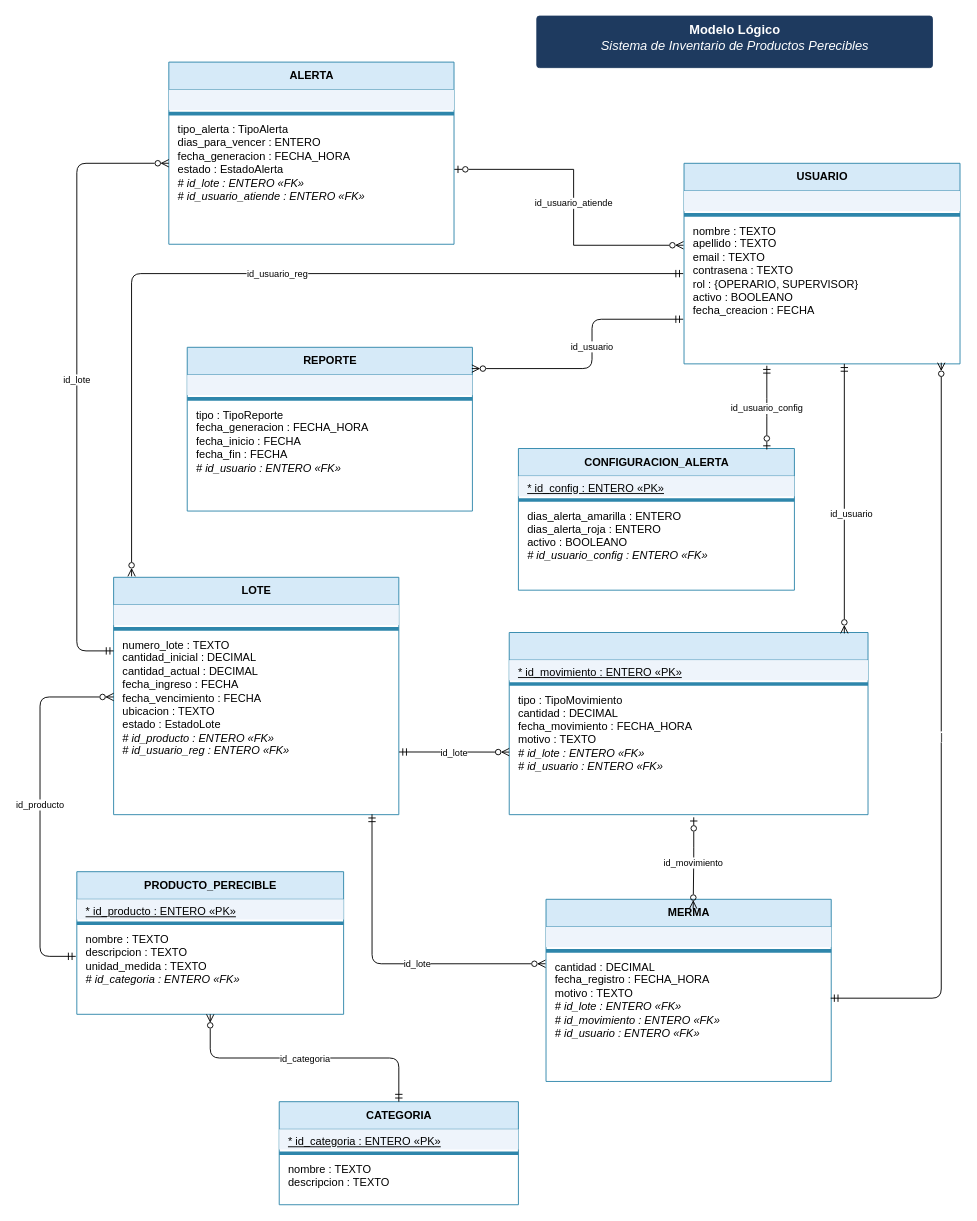
Image size: 977x1221. Some labels were removed from this diagram. The shapes that lost their labels are listed below. From the top down, each one's box as (x1, y1, x2, y2) in pixels, then its label:
(168, 89, 454, 109): * id_alerta : ENTERO «PK»
(684, 190, 960, 211): * id_usuario : ENTERO «PK»
(187, 374, 472, 395): * id_reporte : ENTERO «PK»
(113, 604, 398, 625): * id_lote : ENTERO «PK»
(508, 632, 868, 815): MOVIMIENTO_INVENTARIO
(546, 926, 831, 947): * id_merma : ENTERO «PK»
